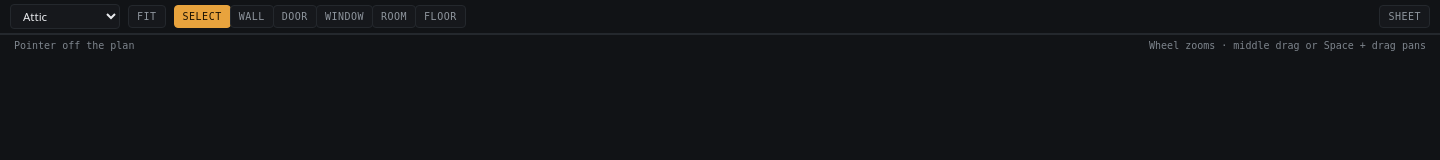
Test: the sheet › says why an empty level has no sheet, instead of throwing
What coordinates should you click on to do the following:
click the button "Sheet"
I would click on:
 (1405, 16)
Its box is [1379,5,1430,28].
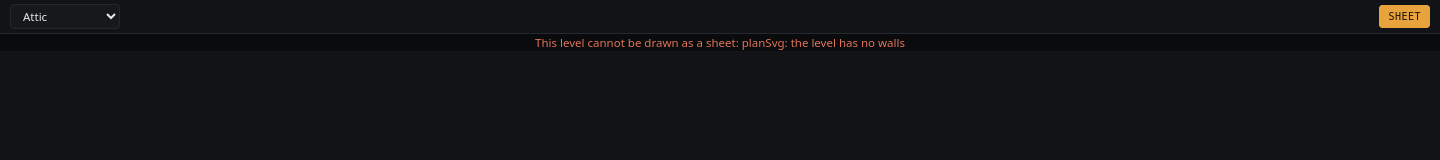
Check: the message shows "no walls", box [742,35,905,50]
